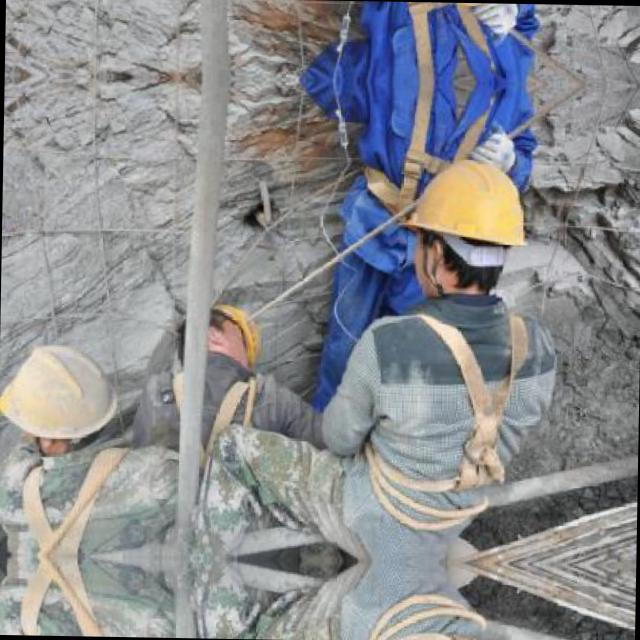helmet: (404, 156, 525, 295), (0, 343, 119, 459), (179, 300, 269, 376)
